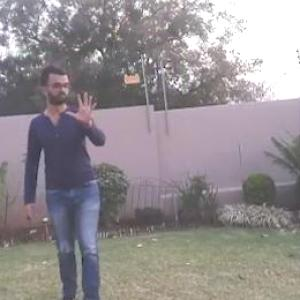follow_hand: (64, 87, 102, 126)
